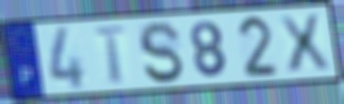2: (235, 13, 281, 81)
4: (47, 25, 90, 91)
8: (189, 20, 229, 79)
S: (136, 20, 186, 86)
T: (91, 25, 130, 86)
X: (275, 12, 334, 75)
